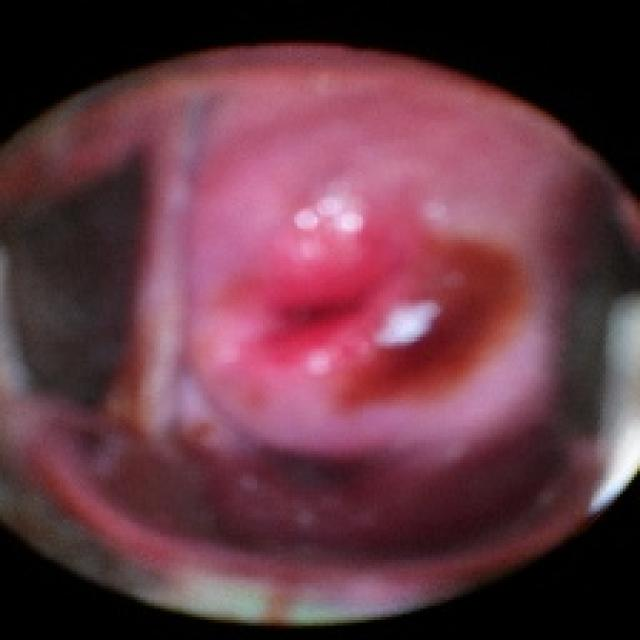type-2: (20, 82, 590, 574)
